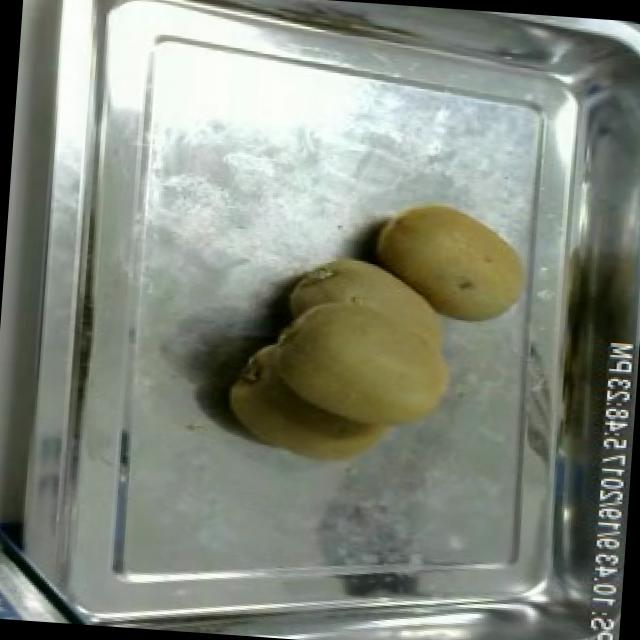Fruit: (208, 237, 472, 472), (360, 187, 540, 335)
